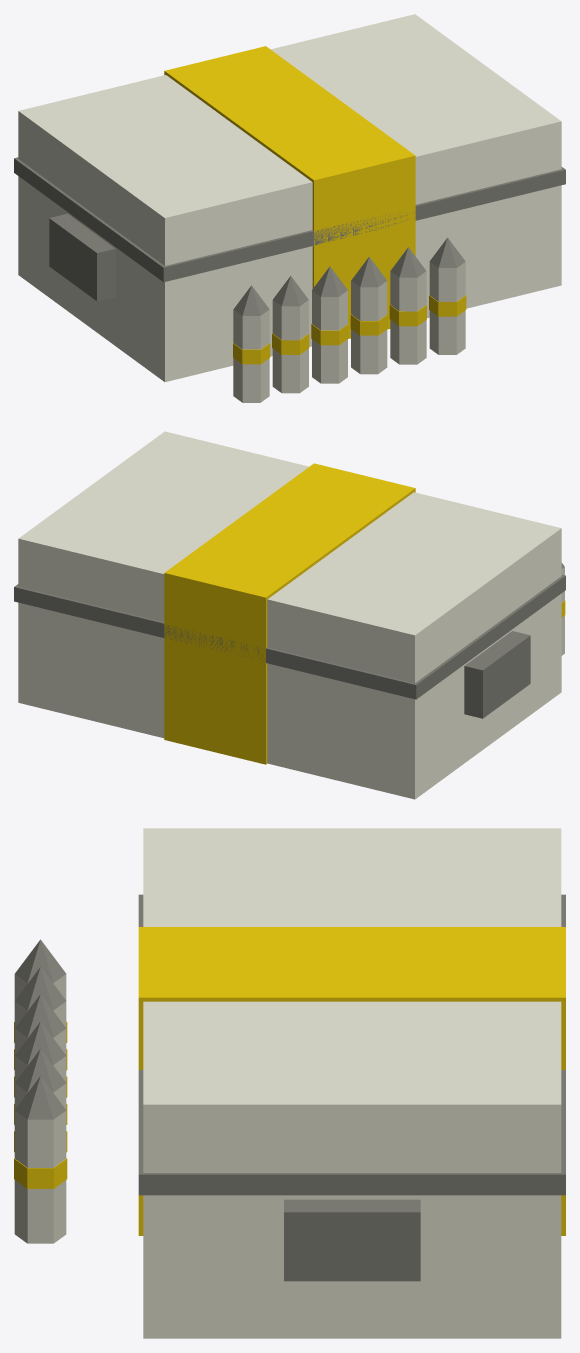
File: ce_ammo_chcells_reg_c.obj
3 views of the same model, one above another, from view 1: azimuth 30°, elevation 25°; view 2: azimuth 150°, elevation 25°; view 3: azimuth 270°, elevation 25° (orthographic). The views are drawn at different scales.
Parts seen in each view (by area): view 1: ce_ammo_chcells_reg_c_0, ce_ammo_chcells_reg_c_1, ce_ammo_chcells_reg_c_2, ce_ammo_chcells_reg_c_3, ce_ammo_chcells_reg_c_14, ce_ammo_chcells_reg_c_8, ce_ammo_chcells_reg_c_17, ce_ammo_chcells_reg_c_5, ce_ammo_chcells_reg_c_20, ce_ammo_chcells_reg_c_11, ce_ammo_chcells_reg_c_16, ce_ammo_chcells_reg_c_10 (+10 smaller); view 2: ce_ammo_chcells_reg_c_0, ce_ammo_chcells_reg_c_1, ce_ammo_chcells_reg_c_2, ce_ammo_chcells_reg_c_3; view 3: ce_ammo_chcells_reg_c_0, ce_ammo_chcells_reg_c_1, ce_ammo_chcells_reg_c_4, ce_ammo_chcells_reg_c_2, ce_ammo_chcells_reg_c_20, ce_ammo_chcells_reg_c_22, ce_ammo_chcells_reg_c_21, ce_ammo_chcells_reg_c_7, ce_ammo_chcells_reg_c_10, ce_ammo_chcells_reg_c_16, ce_ammo_chcells_reg_c_13, ce_ammo_chcells_reg_c_19.
Boxes of the visible parts, left/top/right/bottom form: ce_ammo_chcells_reg_c_0: left=18, top=14, right=561, bottom=381; ce_ammo_chcells_reg_c_1: left=164, top=46, right=415, bottom=338; ce_ammo_chcells_reg_c_2: left=14, top=157, right=565, bottom=282; ce_ammo_chcells_reg_c_3: left=49, top=213, right=115, bottom=301; ce_ammo_chcells_reg_c_14: left=351, top=281, right=387, bottom=374; ce_ammo_chcells_reg_c_8: left=272, top=300, right=308, bottom=393; ce_ammo_chcells_reg_c_17: left=390, top=271, right=426, bottom=364; ce_ammo_chcells_reg_c_5: left=233, top=309, right=269, bottom=402; ce_ammo_chcells_reg_c_20: left=429, top=262, right=465, bottom=354; ce_ammo_chcells_reg_c_11: left=312, top=290, right=347, bottom=383; ce_ammo_chcells_reg_c_16: left=351, top=257, right=386, bottom=287; ce_ammo_chcells_reg_c_10: left=273, top=276, right=308, bottom=306; ce_ammo_chcells_reg_c_0: left=18, top=431, right=561, bottom=799; ce_ammo_chcells_reg_c_1: left=164, top=463, right=415, bottom=764; ce_ammo_chcells_reg_c_2: left=14, top=574, right=565, bottom=699; ce_ammo_chcells_reg_c_3: left=464, top=631, right=530, bottom=718; ce_ammo_chcells_reg_c_0: left=143, top=828, right=561, bottom=1338; ce_ammo_chcells_reg_c_1: left=138, top=927, right=565, bottom=1235; ce_ammo_chcells_reg_c_4: left=284, top=1199, right=420, bottom=1281; ce_ammo_chcells_reg_c_2: left=138, top=894, right=565, bottom=1195; ce_ammo_chcells_reg_c_20: left=14, top=1110, right=66, bottom=1243; ce_ammo_chcells_reg_c_22: left=15, top=1076, right=66, bottom=1119; ce_ammo_chcells_reg_c_21: left=14, top=1158, right=67, bottom=1188; ce_ammo_chcells_reg_c_7: left=15, top=939, right=66, bottom=983; ce_ammo_chcells_reg_c_10: left=15, top=967, right=65, bottom=1010; ce_ammo_chcells_reg_c_16: left=15, top=1021, right=66, bottom=1065; ce_ammo_chcells_reg_c_13: left=15, top=994, right=66, bottom=1037; ce_ammo_chcells_reg_c_19: left=15, top=1049, right=65, bottom=1092.
Bounding box in the file's own units: 0.94 × 0.346 × 0.726.
